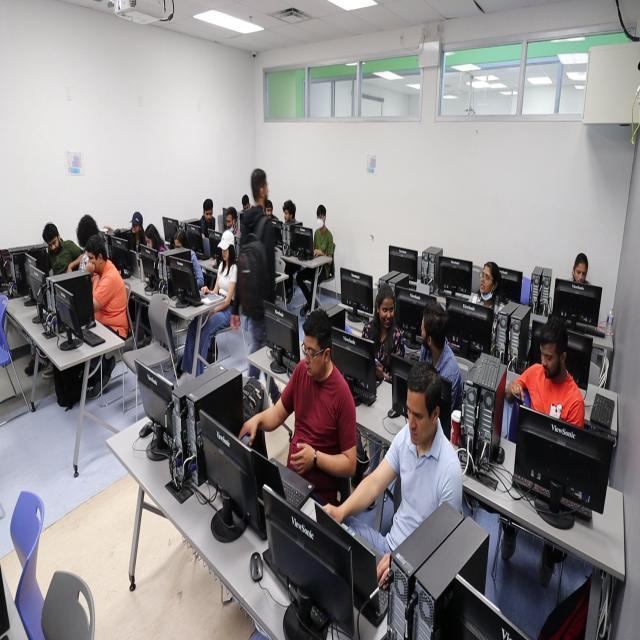Looking away: (405, 387, 431, 445), (302, 333, 323, 378), (540, 339, 562, 378), (420, 312, 435, 349), (478, 264, 494, 296), (380, 296, 396, 328), (574, 258, 588, 284), (86, 249, 98, 273), (48, 235, 59, 252), (316, 210, 326, 228), (226, 214, 235, 231), (204, 207, 213, 223), (222, 244, 230, 262), (145, 234, 153, 251), (131, 220, 140, 235), (174, 236, 182, 251), (283, 208, 291, 222), (265, 206, 273, 219), (242, 200, 250, 212)
